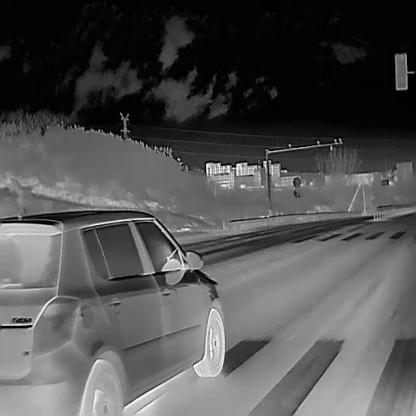car: (0, 207, 228, 415)
